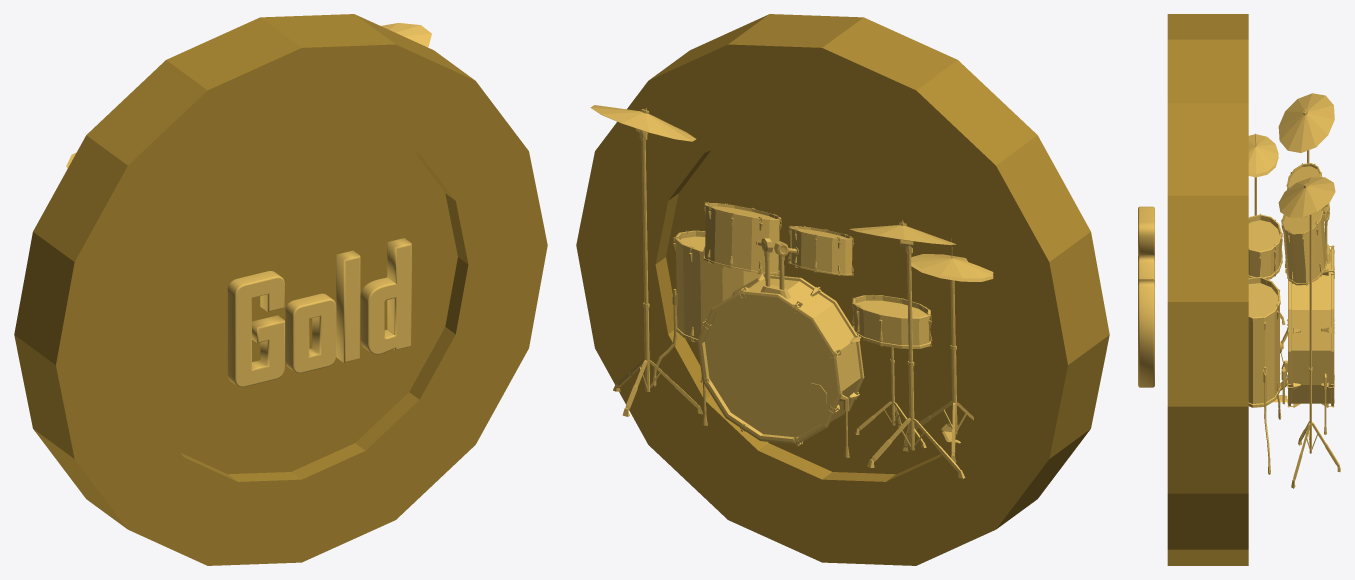
File: Gold_Drum.glb
3 renders of one model, left to right at view 1: azimuth 30°, elevation 25°; view 2: azimuth 150°, elevation 25°; view 3: azimuth 270°, elevation 25°, orthographic. The views are drawn at different scales.
Visible parts, largest first — view 1: Coin, Gold_Text, Drums; view 2: Coin, Drums; view 3: Coin, Drums, Gold_Text.
Boxes of the visible parts, <box> form: Coin: <box>14,14,547,565</box>; Gold_Text: <box>227,238,411,387</box>; Drums: <box>66,23,431,168</box>; Coin: <box>576,14,1109,565</box>; Drums: <box>590,105,993,478</box>; Coin: <box>1167,14,1248,565</box>; Drums: <box>1248,93,1340,488</box>; Gold_Text: <box>1138,206,1154,387</box>.
Size of the model in its own units: 0.987 by 0.987 by 0.3621.
